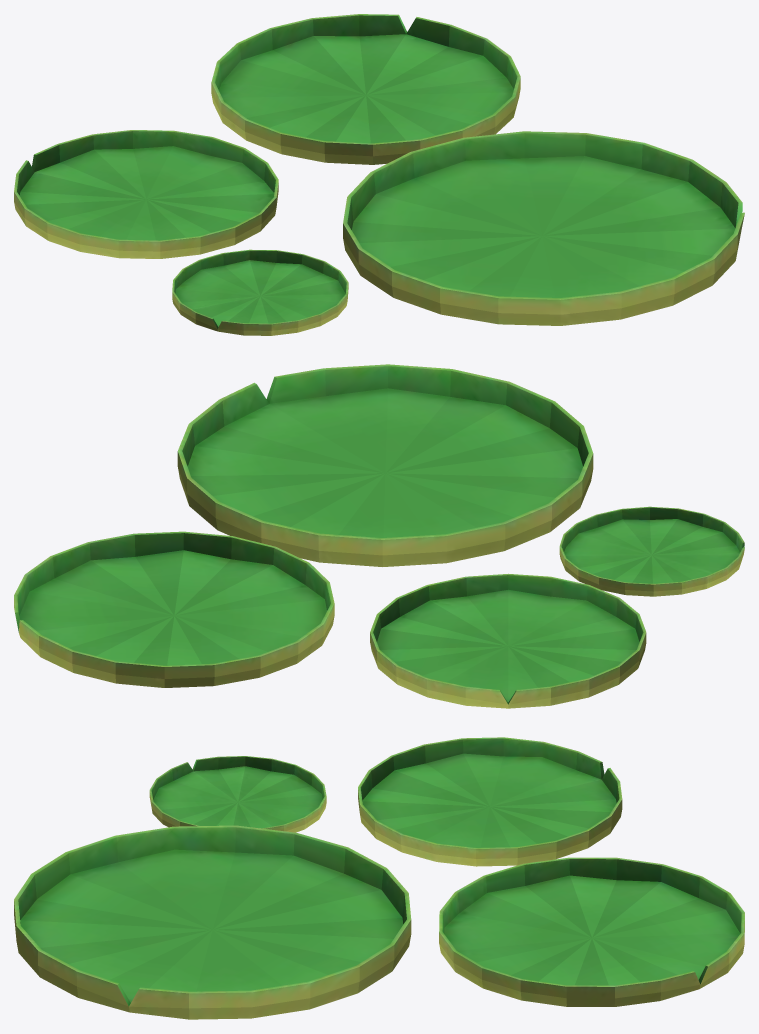
Rendered from flora2_water_lilies.glb.
3 views of the same model, one above another, from view 1: azimuth 30°, elevation 25°; view 2: azimuth 150°, elevation 25°; view 3: azimuth 270°, elevation 25° (orthographic). The views are drawn at different scales.
Parts seen in each view (by area): view 1: GiantWaterLilies_mesh; view 2: GiantWaterLilies_mesh; view 3: GiantWaterLilies_mesh.
Part boxes in pixels (x1,y1,x2,y2): GiantWaterLilies_mesh: (14,14,744,335); GiantWaterLilies_mesh: (14,364,744,708); GiantWaterLilies_mesh: (14,737,744,1019).
Size of the model in its own units: 18.53 by 0.8828 by 21.59.
Materials: 1 (1 with a texture image).
